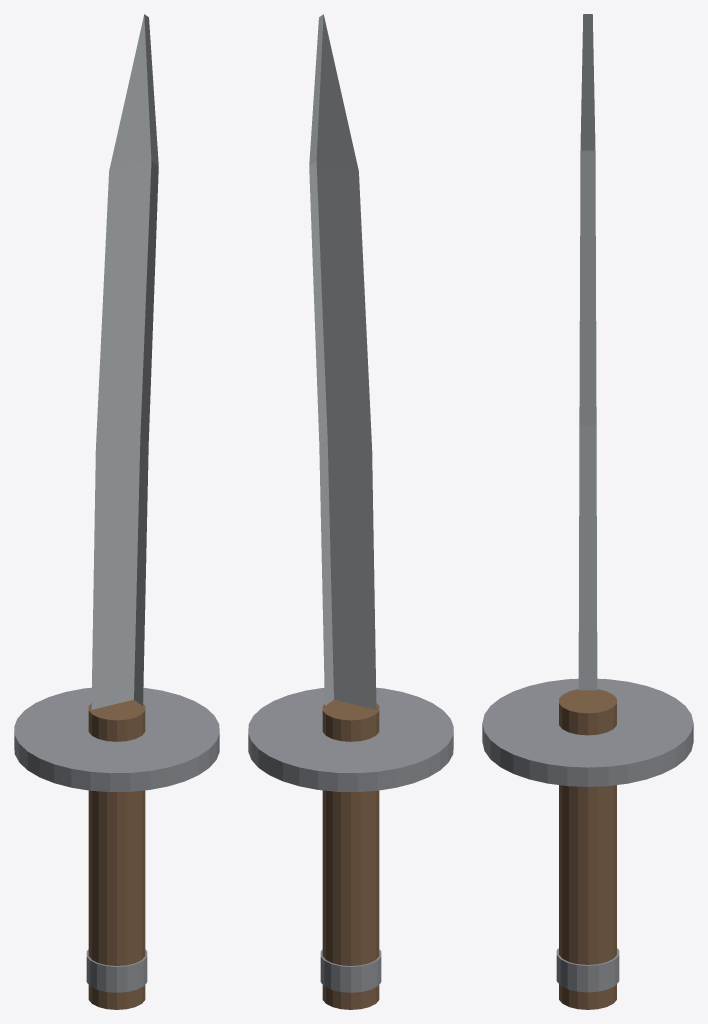
Rendered from enchanted_crystal_katana.glb.
The picture shows the model from 3 angles, left to right: view 1: azimuth 30°, elevation 25°; view 2: azimuth 150°, elevation 25°; view 3: azimuth 270°, elevation 25°; orthographic projection. The views are drawn at different scales.
Parts seen in each view (by area): view 1: sword_0_0, sword_0_1, sword_0_2, sword_0_3; view 2: sword_0_0, sword_0_1, sword_0_2, sword_0_3; view 3: sword_0_1, sword_0_2, sword_0_0, sword_0_3.
Part boxes in pixels (left/top/right/bottom): sword_0_0: left=91, top=14, right=158, bottom=709; sword_0_1: left=14, top=687, right=219, bottom=791; sword_0_2: left=88, top=699, right=145, bottom=1009; sword_0_3: left=86, top=949, right=147, bottom=992; sword_0_0: left=309, top=14, right=376, bottom=709; sword_0_1: left=248, top=687, right=453, bottom=791; sword_0_2: left=322, top=699, right=379, bottom=1009; sword_0_3: left=320, top=949, right=381, bottom=992; sword_0_1: left=482, top=678, right=693, bottom=786; sword_0_2: left=559, top=689, right=616, bottom=1009; sword_0_0: left=578, top=14, right=597, bottom=690; sword_0_3: left=556, top=948, right=619, bottom=992.
Size of the model in its own units: 0.7877 by 4.11 by 0.7877.
